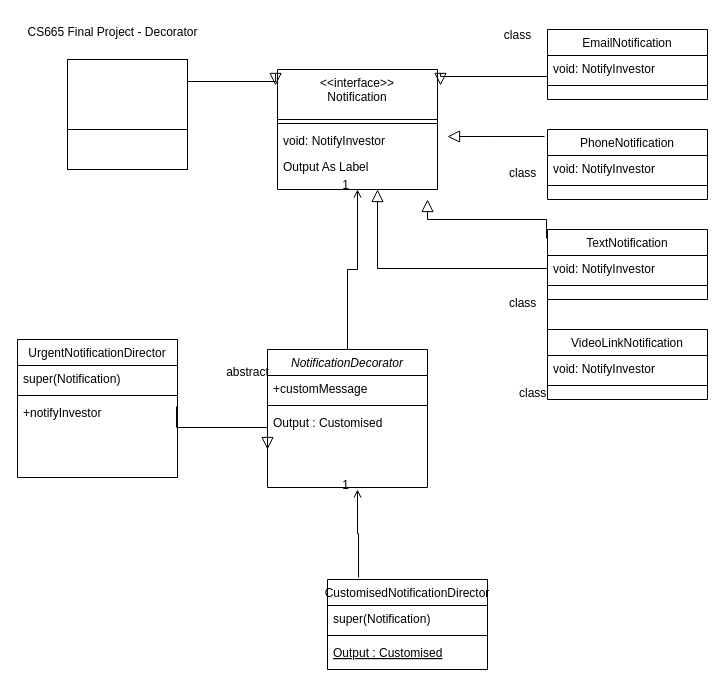
Image size: 725x687. Some labels were removed from this diagram. Each missing label, with the centre of its shape:
"Investor" goes at (x=127, y=94).
"void: main" goes at (x=127, y=149).
